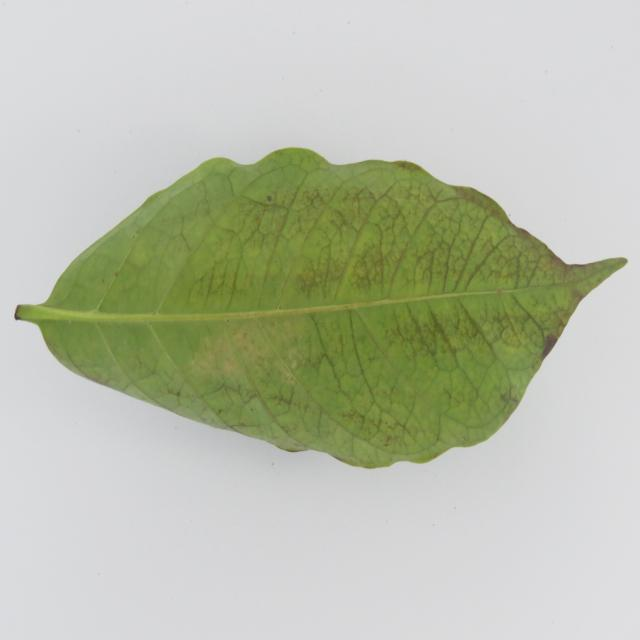DeficienciaNutricional-Calcio: (15, 148, 625, 468)
